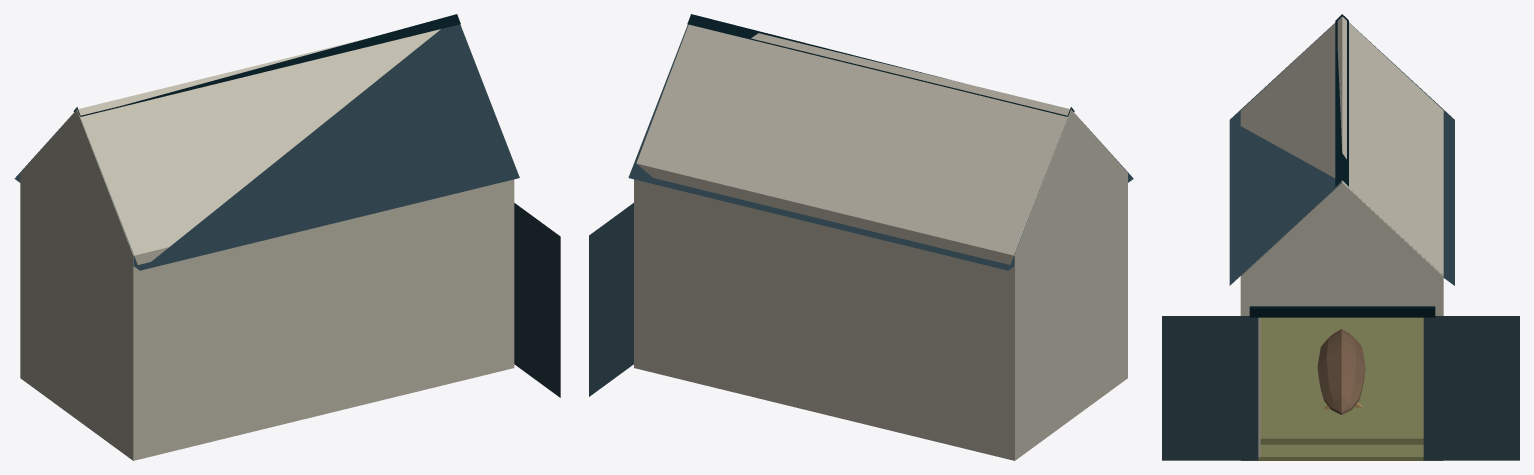
File: M_004.Shed.fbx
3 renders of one model, left to right at view 1: azimuth 30°, elevation 25°; view 2: azimuth 150°, elevation 25°; view 3: azimuth 270°, elevation 25°, orthographic. The views are drawn at different scales.
Parts seen in each view (by area): view 1: Shed, Roof, Left shed door; view 2: Shed, Right shed door, Roof; view 3: Shed, Left shed door, Right shed door, Roof, Curragh.002, Shed door slider.
Boxes of the visible parts, box(x1,y1,x2,y2) form: Shed: box(20, 24, 514, 460); Roof: box(14, 14, 519, 270); Left shed door: box(514, 203, 560, 397); Shed: box(634, 24, 1127, 460); Right shed door: box(589, 203, 633, 396); Roof: box(628, 14, 1133, 270); Shed: box(1240, 16, 1443, 460); Left shed door: box(1162, 316, 1258, 460); Right shed door: box(1423, 316, 1519, 460); Roof: box(1229, 14, 1454, 285); Curragh.002: box(1317, 329, 1365, 414); Shed door slider: box(1249, 306, 1435, 317).
Bounding box in the file's own units: 393 × 305 × 353.
